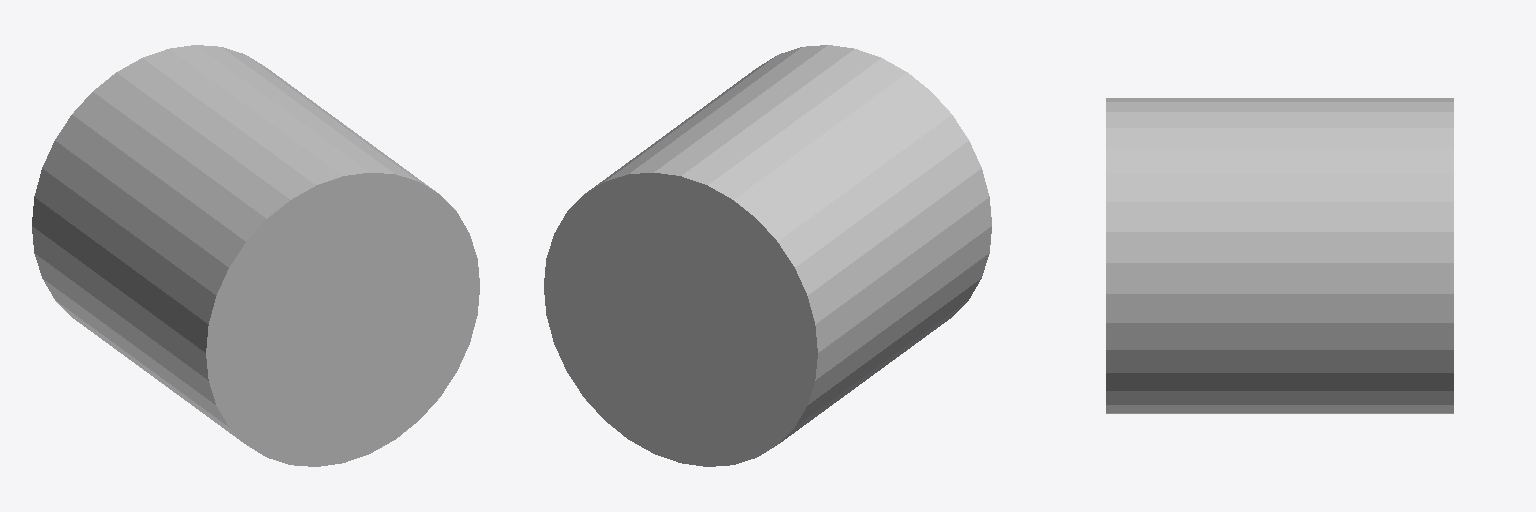
File: Puños.obj
The picture shows the model from 3 angles: view 1: azimuth 30°, elevation 25°; view 2: azimuth 150°, elevation 25°; view 3: azimuth 270°, elevation 25°; orthographic projection.
Visible parts, largest first — view 1: Cilindro; view 2: Cilindro; view 3: Cilindro.
Part boxes in pixels (x1,y1,x2,y2): Cilindro: (32,45,479,466); Cilindro: (544,45,991,466); Cilindro: (1106,98,1453,413).
Size of the model in its own units: 2 by 2 by 2.2.